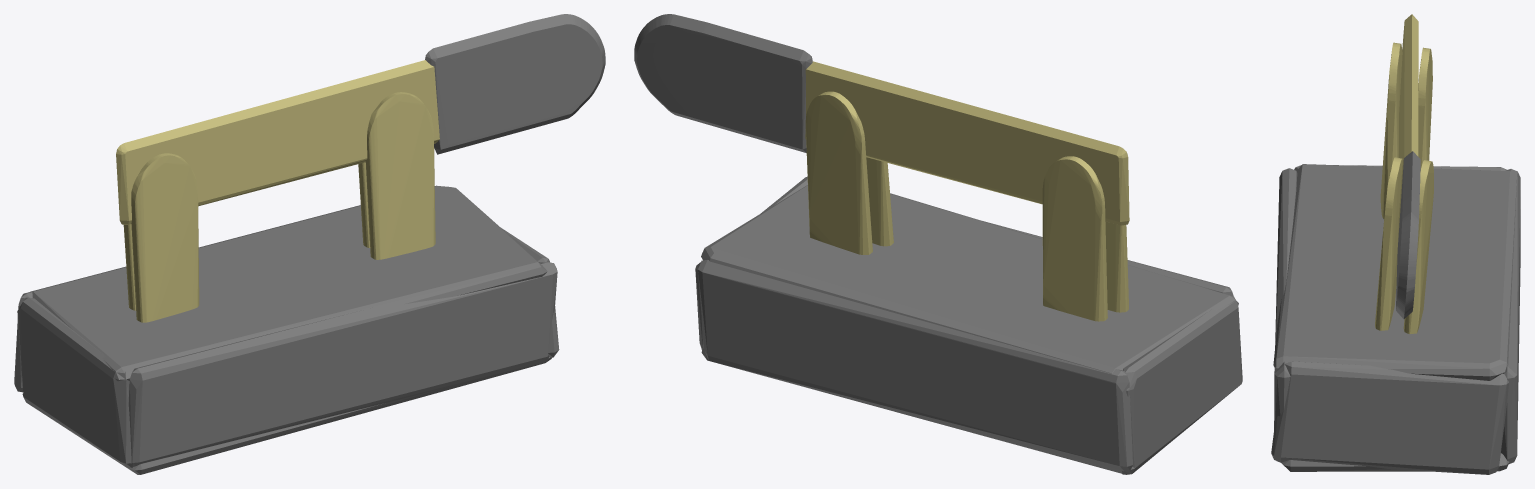
File: switch.glb
The picture shows the model from 3 angles, left to right: view 1: azimuth 30°, elevation 25°; view 2: azimuth 150°, elevation 25°; view 3: azimuth 270°, elevation 25°; orthographic projection. The views are drawn at different scales.
Parts seen in each view (by area): view 1: Object_4; view 2: Object_4; view 3: Object_4.
Boxes of the visible parts, bbox=[...] form: Object_4: bbox=[14, 14, 605, 474]; Object_4: bbox=[634, 14, 1242, 474]; Object_4: bbox=[1271, 14, 1520, 474].
Bounding box in the file's own units: 0.2769 × 0.1473 × 0.1067.
